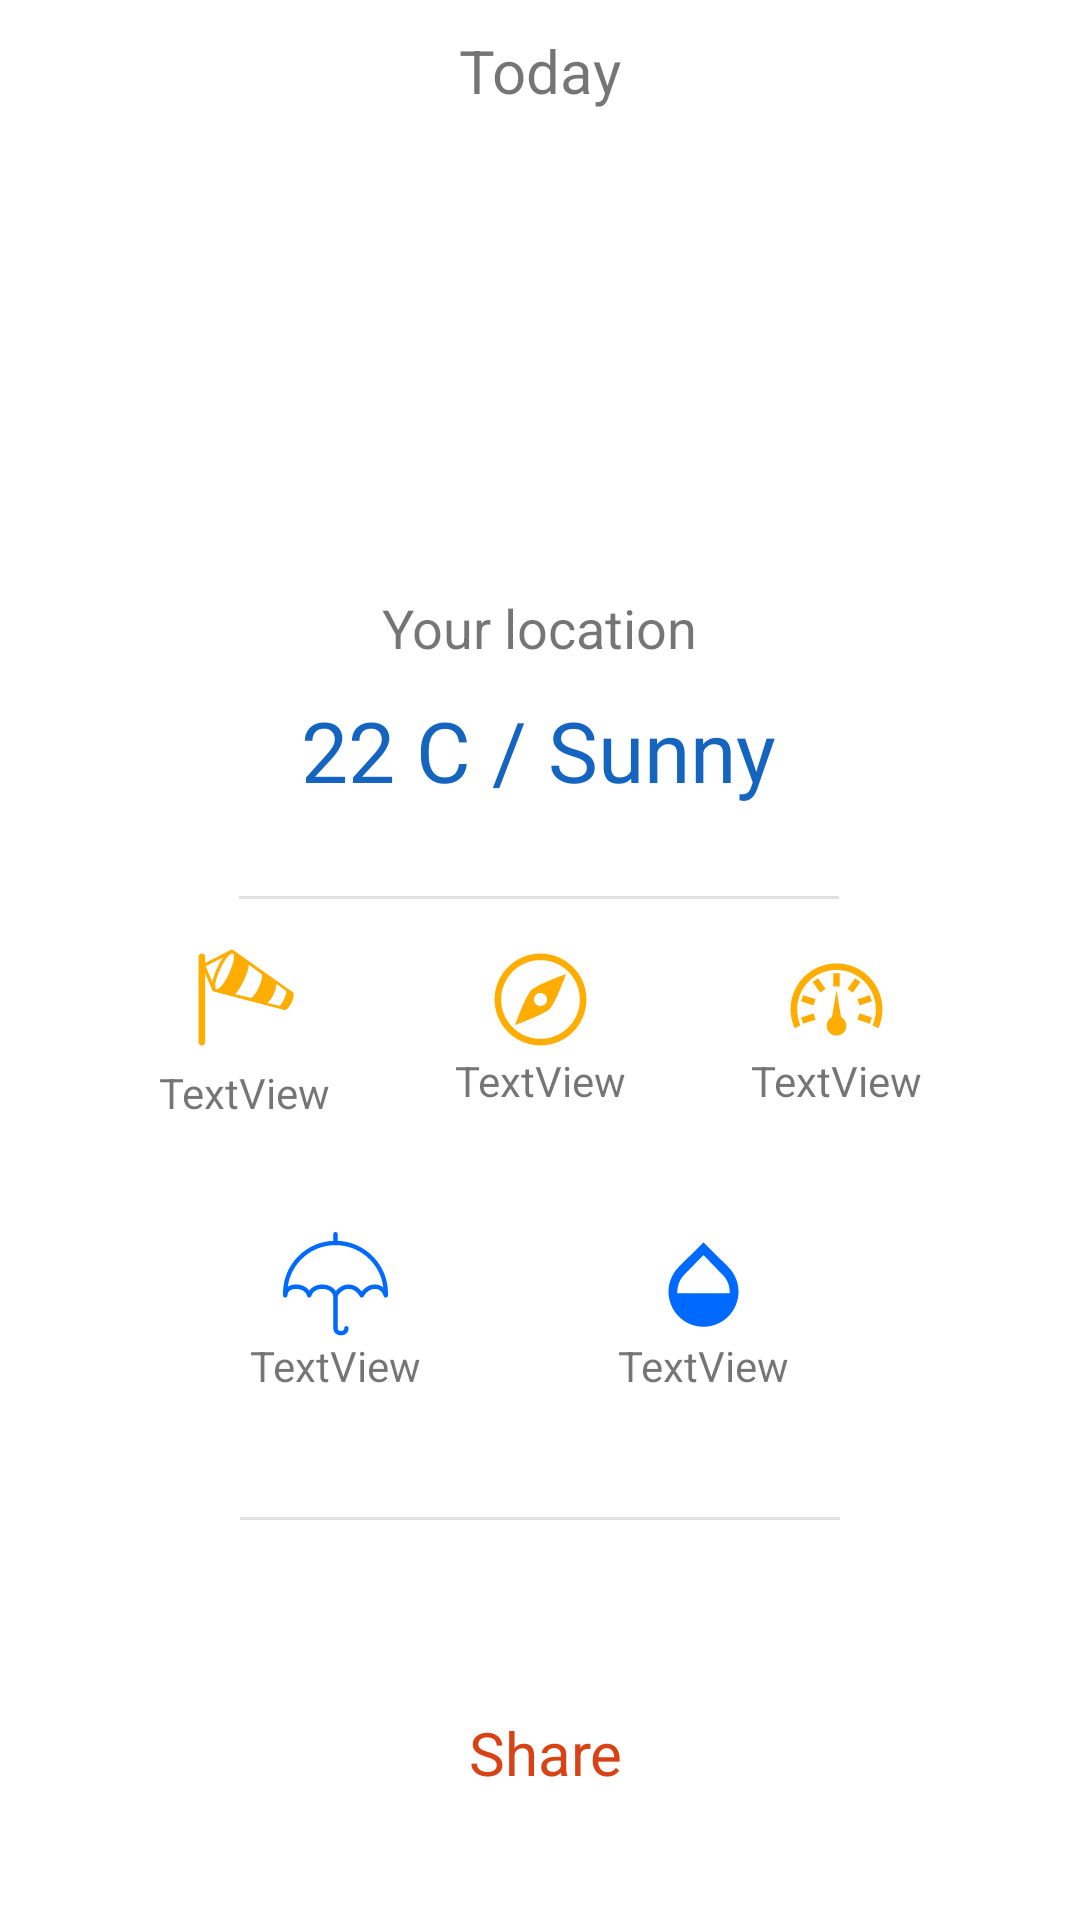

Icon click points for this 1080×1920 phone screenshot, format (x,y):
air: (246,997)
compass: (540,999)
preassure: (836,999)
rain factor: (335,1284)
